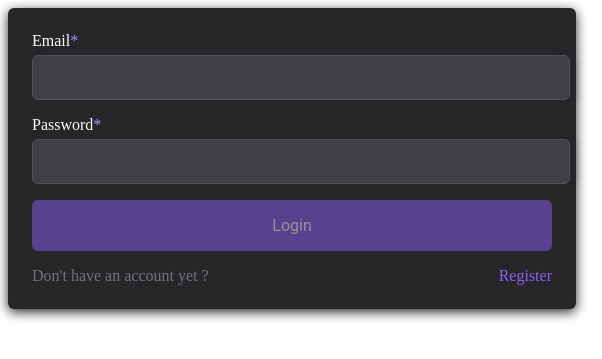
components/login-form › with invalid inputs › should keep the button disabled
This screenshot has width=602, height=359.
In the field labelled "Email": (301, 77) [32,55,570,100], type "gh"
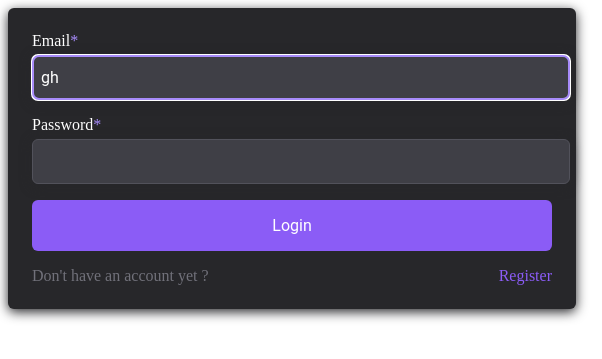
In the password field labelled "Password": (301, 161) [32,139,570,184], type "gh"
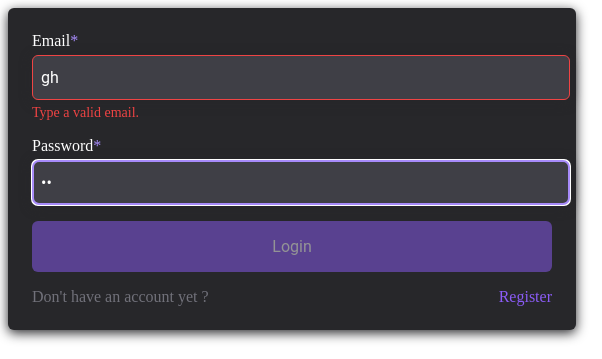
Now the button "login" is disabled, box [32,221,552,272]
